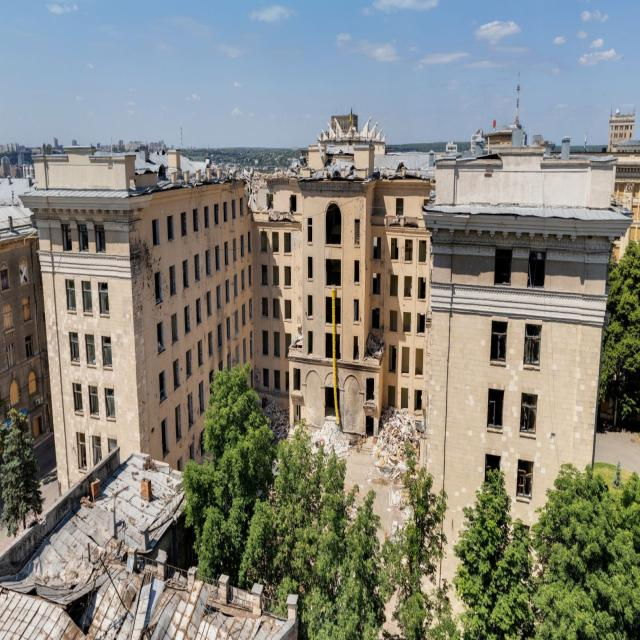broken_window: (523, 321, 542, 369), (519, 392, 538, 437), (490, 319, 507, 365), (487, 386, 504, 432), (516, 459, 533, 502)
building: (418, 133, 634, 636)
